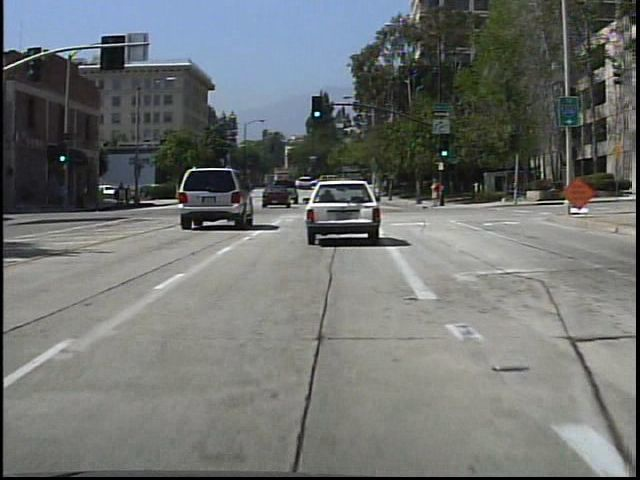person: (425, 174, 441, 209), (115, 179, 127, 207), (129, 182, 130, 209)
